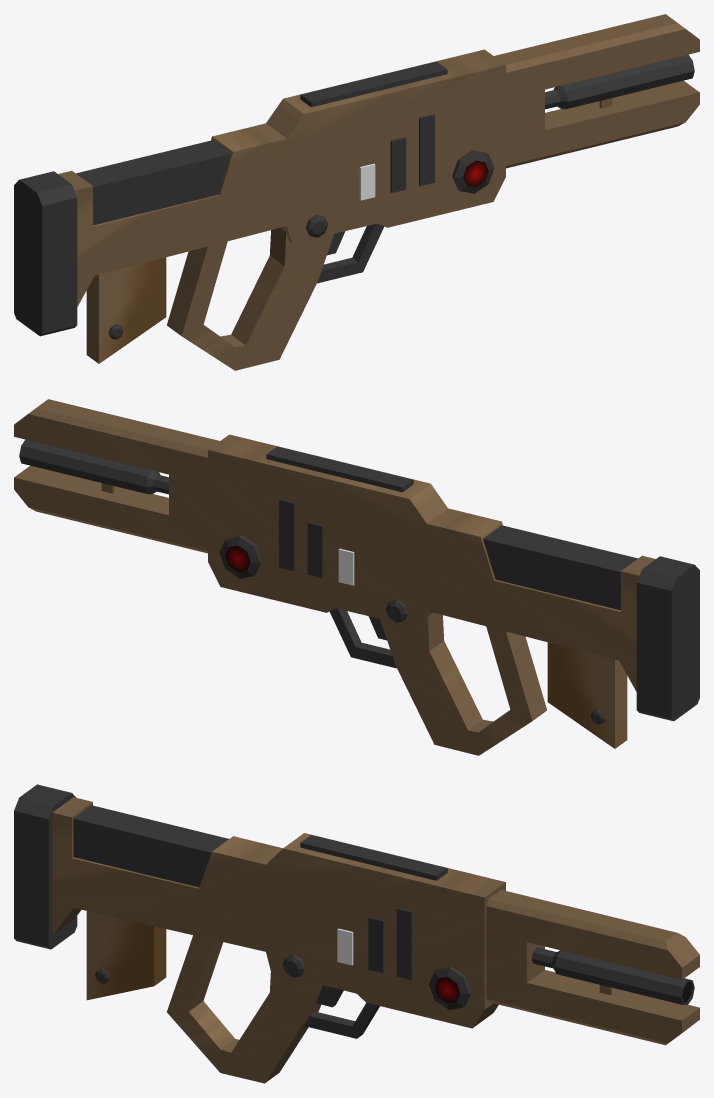
Rendered from Rifle_F_V3.FBX.
3 renders of one model, top to bottom at view 1: azimuth 30°, elevation 25°; view 2: azimuth 150°, elevation 25°; view 3: azimuth 330°, elevation 25°, orthographic.
Visible parts, largest first — view 1: Rifle_F_V3, Magazine; view 2: Rifle_F_V3, Magazine; view 3: Rifle_F_V3, Magazine.
Boxes of the visible parts, x1=… form: Rifle_F_V3: x1=14, y1=14, x2=699, y2=370; Magazine: x1=86, y1=257, x2=166, y2=363; Rifle_F_V3: x1=14, y1=399, x2=699, y2=755; Magazine: x1=547, y1=642, x2=627, y2=748; Rifle_F_V3: x1=14, y1=784, x2=699, y2=1083; Magazine: x1=86, y1=911, x2=166, y2=1000.
Size of the model in its own units: 382 by 136 by 28.39.
